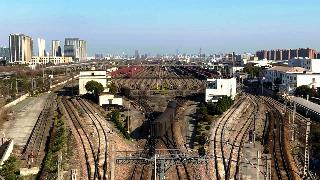train: (150, 101, 177, 137), (121, 86, 131, 95)
